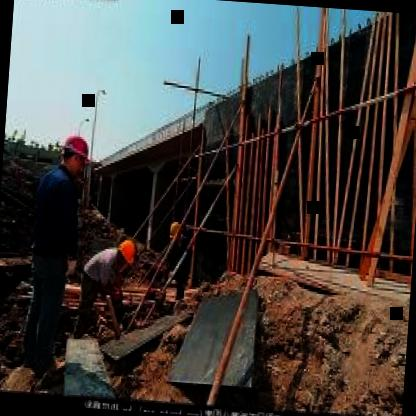helmet: (54, 132, 92, 184), (115, 236, 138, 267), (167, 216, 185, 245)
